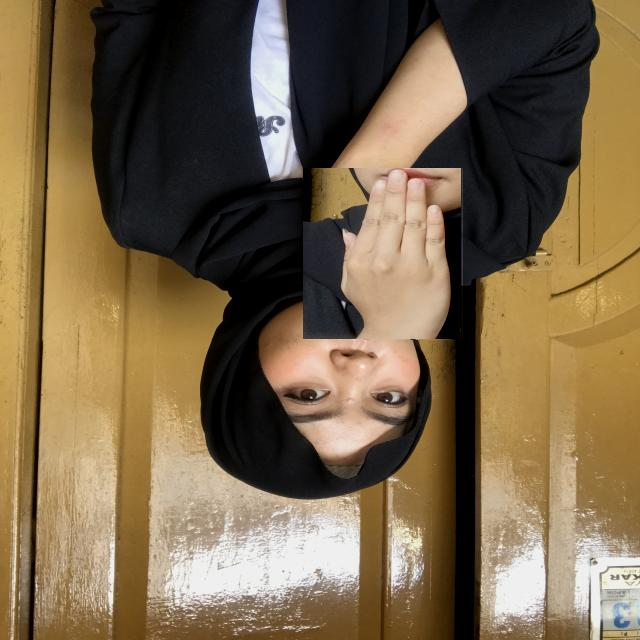ganteng: (304, 168, 464, 340)
